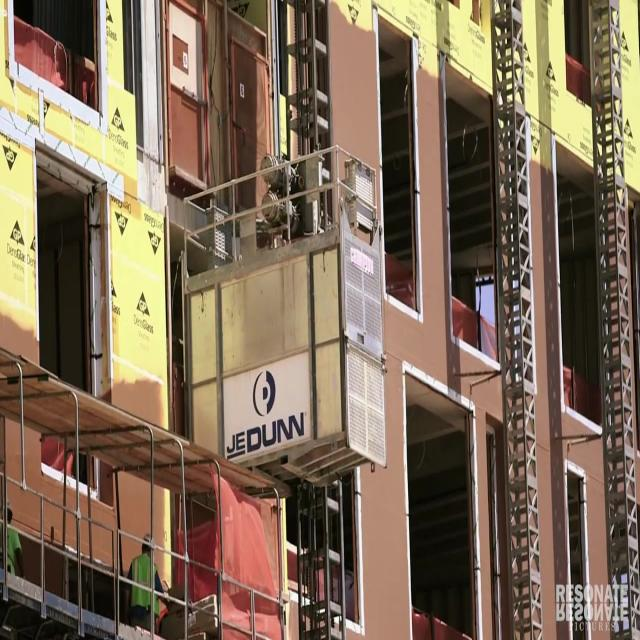Reflective-Jacket: (126, 553, 164, 625)
Safety-Helmet: (139, 528, 156, 550)
